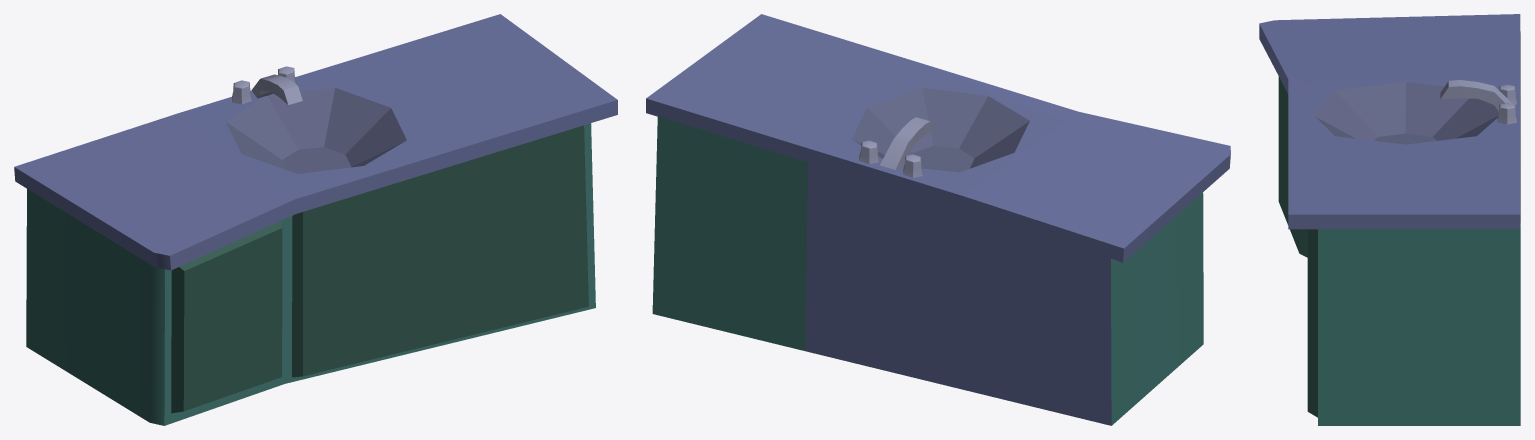
Rendered from bathroomcounter_modern.fbx.
3 views of the same model, side by side, from view 1: azimuth 30°, elevation 25°; view 2: azimuth 150°, elevation 25°; view 3: azimuth 270°, elevation 25° (orthographic).
Parts seen in each view (by area): view 1: polySurface7, polySurface4, polySurface8, polySurface2, polySurface6, pCube27; view 2: polySurface7, polySurface8, polySurface6, pCube27; view 3: polySurface7, polySurface8, polySurface6, polySurface4, polySurface2, pCube27, pCylinder24.
Part boxes in pixels (box(x1,y1,x2,y2)): polySurface7: box(14, 14, 617, 270); polySurface4: box(292, 125, 588, 377); polySurface8: box(26, 123, 595, 425); polySurface2: box(171, 221, 282, 413); polySurface6: box(225, 87, 406, 173); pCube27: box(251, 74, 302, 104); polySurface7: box(646, 14, 1230, 425); polySurface8: box(652, 116, 1203, 425); polySurface6: box(852, 87, 1029, 172); pCube27: box(879, 117, 933, 169); polySurface7: box(1259, 14, 1520, 229); polySurface8: box(1318, 227, 1520, 425); polySurface6: box(1312, 82, 1498, 144); polySurface4: box(1307, 229, 1317, 417); polySurface2: box(1278, 76, 1307, 257); pCube27: box(1440, 80, 1515, 111); pCylinder24: box(1497, 103, 1517, 124).
Size of the model in its own units: 164 by 74.51 by 77.44.
